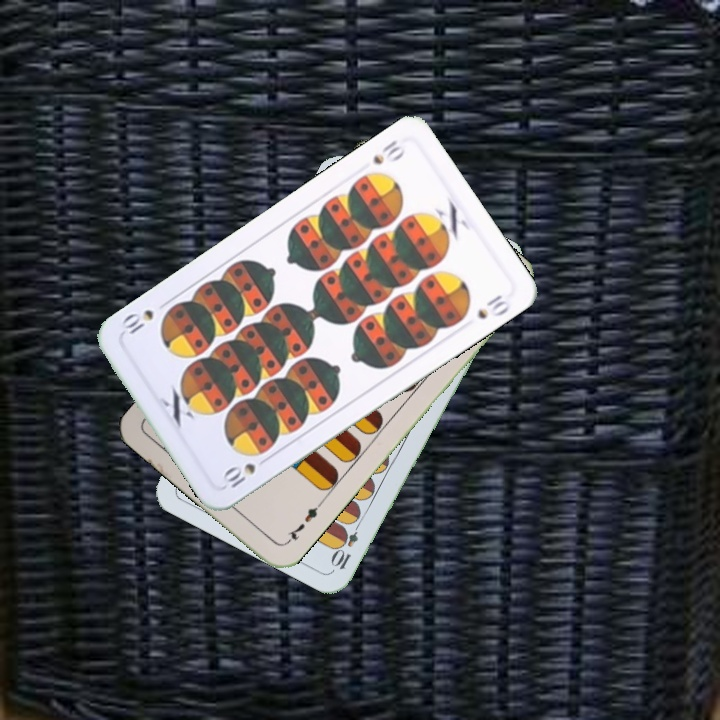E10: (329, 515, 364, 572)
E7: (282, 498, 325, 547)
S10: (218, 452, 273, 493), (368, 135, 408, 168)
